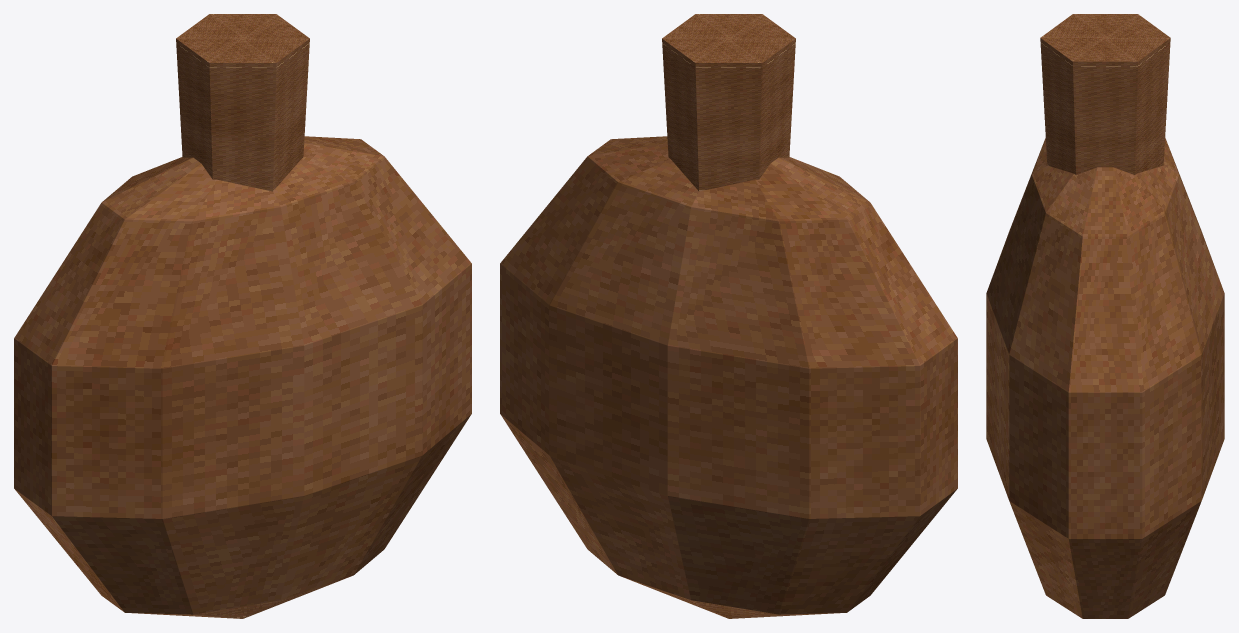
File: cantil.glb
3 views of the same model, side by side, from view 1: azimuth 30°, elevation 25°; view 2: azimuth 150°, elevation 25°; view 3: azimuth 270°, elevation 25° (orthographic). The views are drawn at different scales.
Parts seen in each view (by area): view 1: cantil; view 2: cantil; view 3: cantil.
Boxes of the visible parts, x1,y1,x2,y2 form: cantil: (14,14,471,618); cantil: (500,14,957,618); cantil: (986,14,1224,618).
Bounding box in the file's own units: 0.3256 × 0.43 × 0.1643.
1 material, 1 textured.
